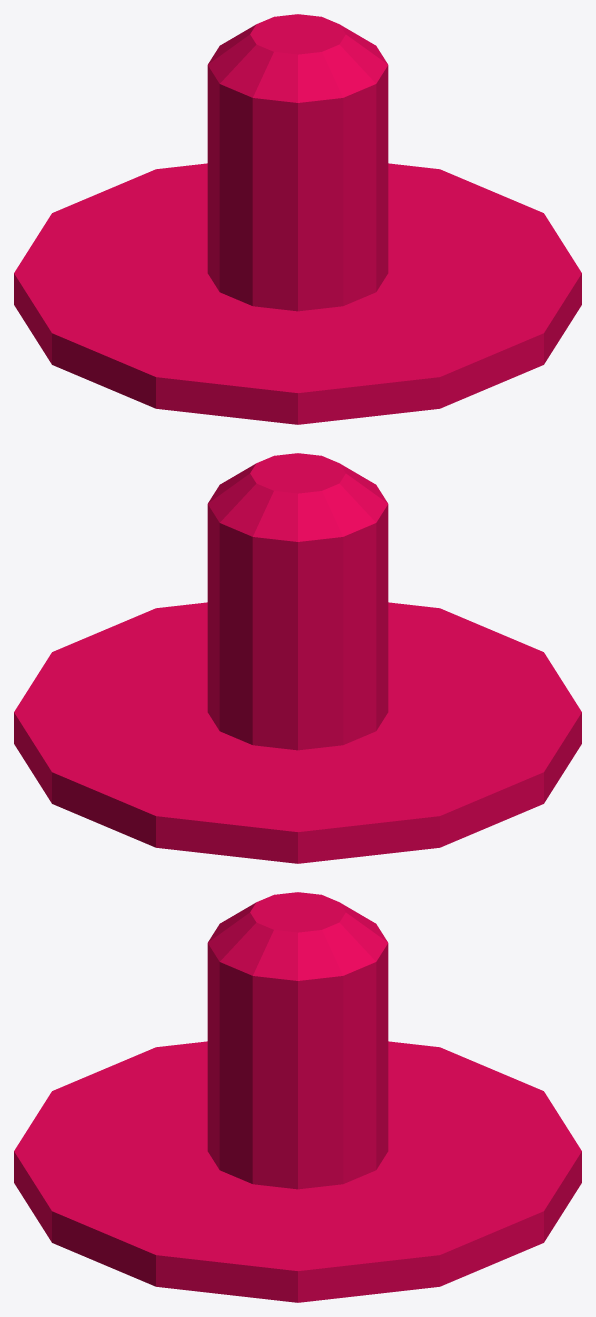
Rendered from handle_pink.glb.
3 views of the same model, one above another, from view 1: azimuth 30°, elevation 25°; view 2: azimuth 150°, elevation 25°; view 3: azimuth 270°, elevation 25° (orthographic).
Parts seen in each view (by area): view 1: handle1.001; view 2: handle1.001; view 3: handle1.001.
Boxes of the visible parts, x1,y1,x2,y2 form: handle1.001: [14, 14, 581, 424]; handle1.001: [14, 453, 581, 863]; handle1.001: [14, 892, 581, 1302].
Bounding box in the file's own units: 0.2915 × 0.1531 × 0.2915.
